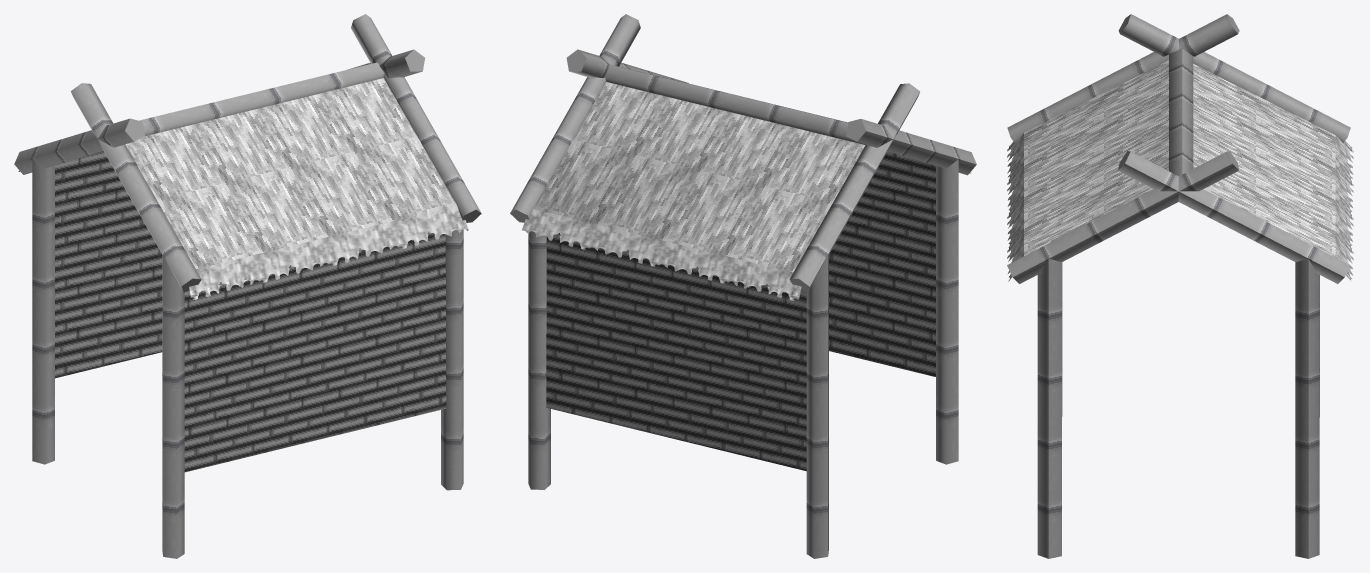
File: bamboohut01.obj
3 views of the same model, side by side, from view 1: azimuth 30°, elevation 25°; view 2: azimuth 150°, elevation 25°; view 3: azimuth 270°, elevation 25° (orthographic).
Visible parts, largest first — view 1: Duplicate03, Duplicate02, Box01, Duplicate04, Duplicate05, Duplicate01, Cylinder01, Duplicate06; view 2: Box01, Duplicate03, Duplicate05, Duplicate04, Cylinder01, Duplicate02, Duplicate06; view 3: Duplicate05, Duplicate02, Box01, Duplicate04, Duplicate06, Duplicate01.
Part boxes in pixels (<box>): Duplicate03: <box>184,231,446,472</box>; Duplicate02: <box>14,78,456,268</box>; Box01: <box>18,151,162,378</box>; Duplicate04: <box>71,83,201,558</box>; Duplicate05: <box>348,14,481,490</box>; Duplicate01: <box>189,205,468,299</box>; Cylinder01: <box>32,157,54,464</box>; Duplicate06: <box>139,62,384,135</box>; Box01: <box>521,82,865,471</box>; Duplicate03: <box>829,151,935,376</box>; Duplicate05: <box>510,14,688,489</box>; Duplicate04: <box>846,119,976,464</box>; Cylinder01: <box>806,253,828,558</box>; Duplicate02: <box>789,83,920,292</box>; Duplicate06: <box>604,65,865,144</box>; Duplicate05: <box>1007,151,1350,558</box>; Duplicate02: <box>1024,14,1350,255</box>; Box01: <box>1193,64,1353,280</box>; Duplicate04: <box>1007,14,1239,416</box>; Duplicate06: <box>1169,48,1193,176</box>; Duplicate01: <box>1007,133,1023,281</box>.
Bounding box in the file's own units: 57.44 × 74.3 × 58.45.
